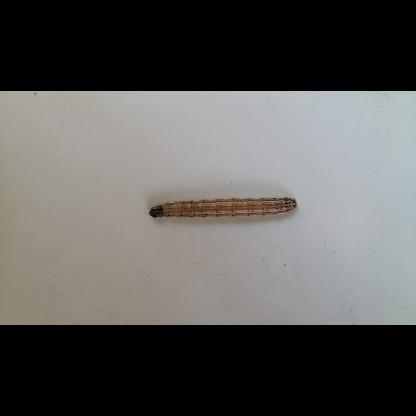Fall Armyworm Larvae: (146, 195, 298, 221)
